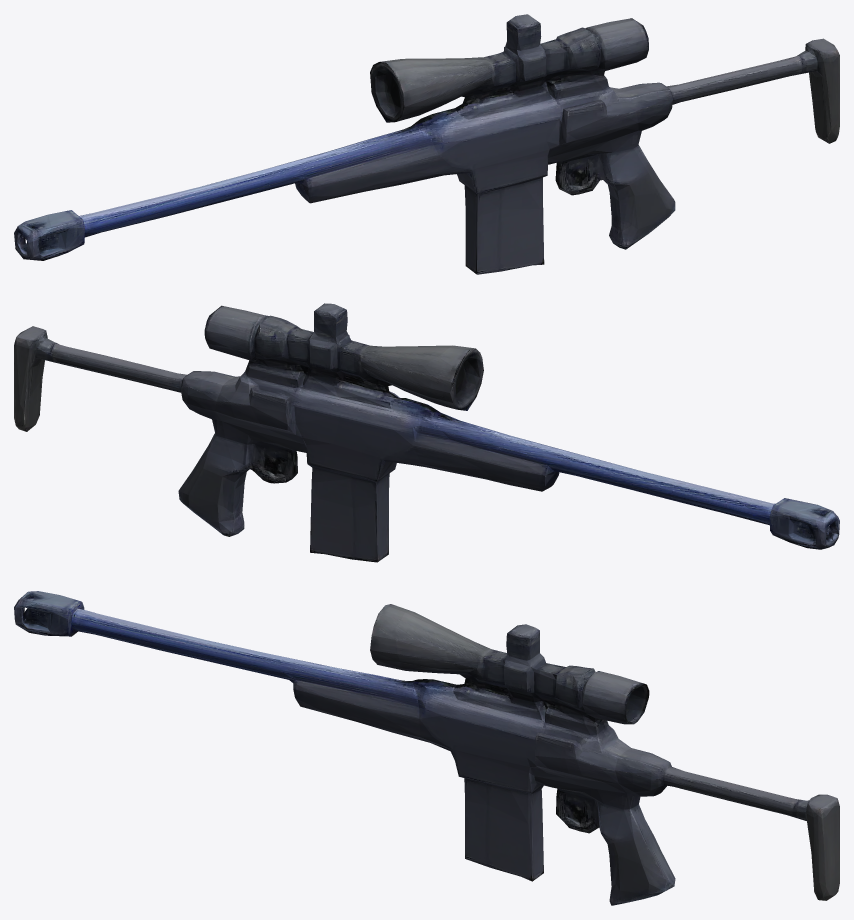
Rendered from marksman.glb.
3 views of the same model, one above another, from view 1: azimuth 30°, elevation 25°; view 2: azimuth 150°, elevation 25°; view 3: azimuth 330°, elevation 25° (orthographic).
Visible parts, largest first — view 1: world; view 2: world; view 3: world.
Boxes of the visible parts, x1,y1,x2,y2 form: world: (14, 14, 839, 274); world: (14, 303, 839, 562); world: (14, 591, 839, 905).
Size of the model in its own units: 0.9921 by 0.2895 by 0.0703.
Materials: 1 (1 with a texture image).
